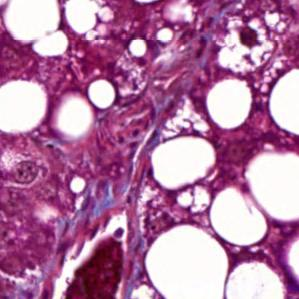steatosis: (203, 77, 255, 134), (88, 78, 119, 109)
